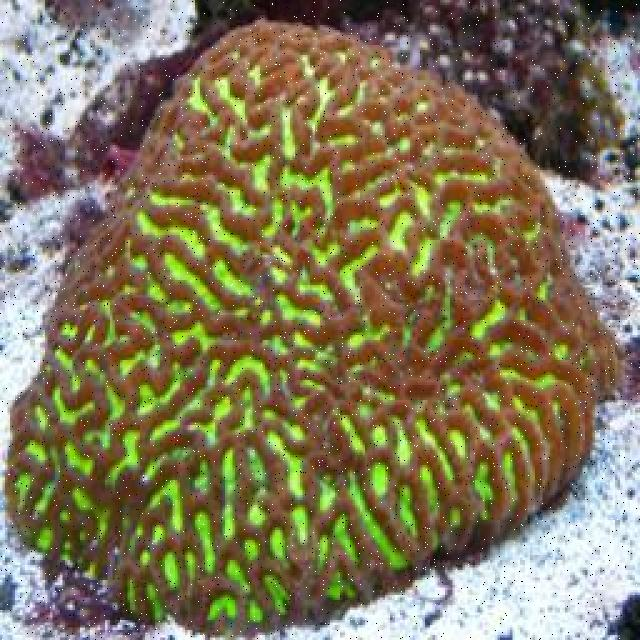reefs: (3, 18, 638, 638), (341, 0, 625, 187)
